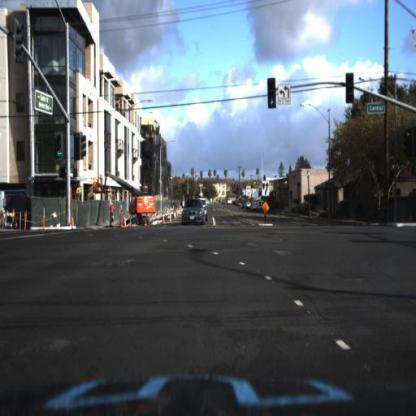car: (182, 199, 205, 225), (226, 194, 234, 208)
pedestrian: (110, 200, 117, 230)
trafficLight: (268, 83, 278, 112)
trafficLight-GreenLeft: (268, 76, 277, 113), (57, 132, 63, 161)
trafficLight-Red: (347, 76, 355, 103)
